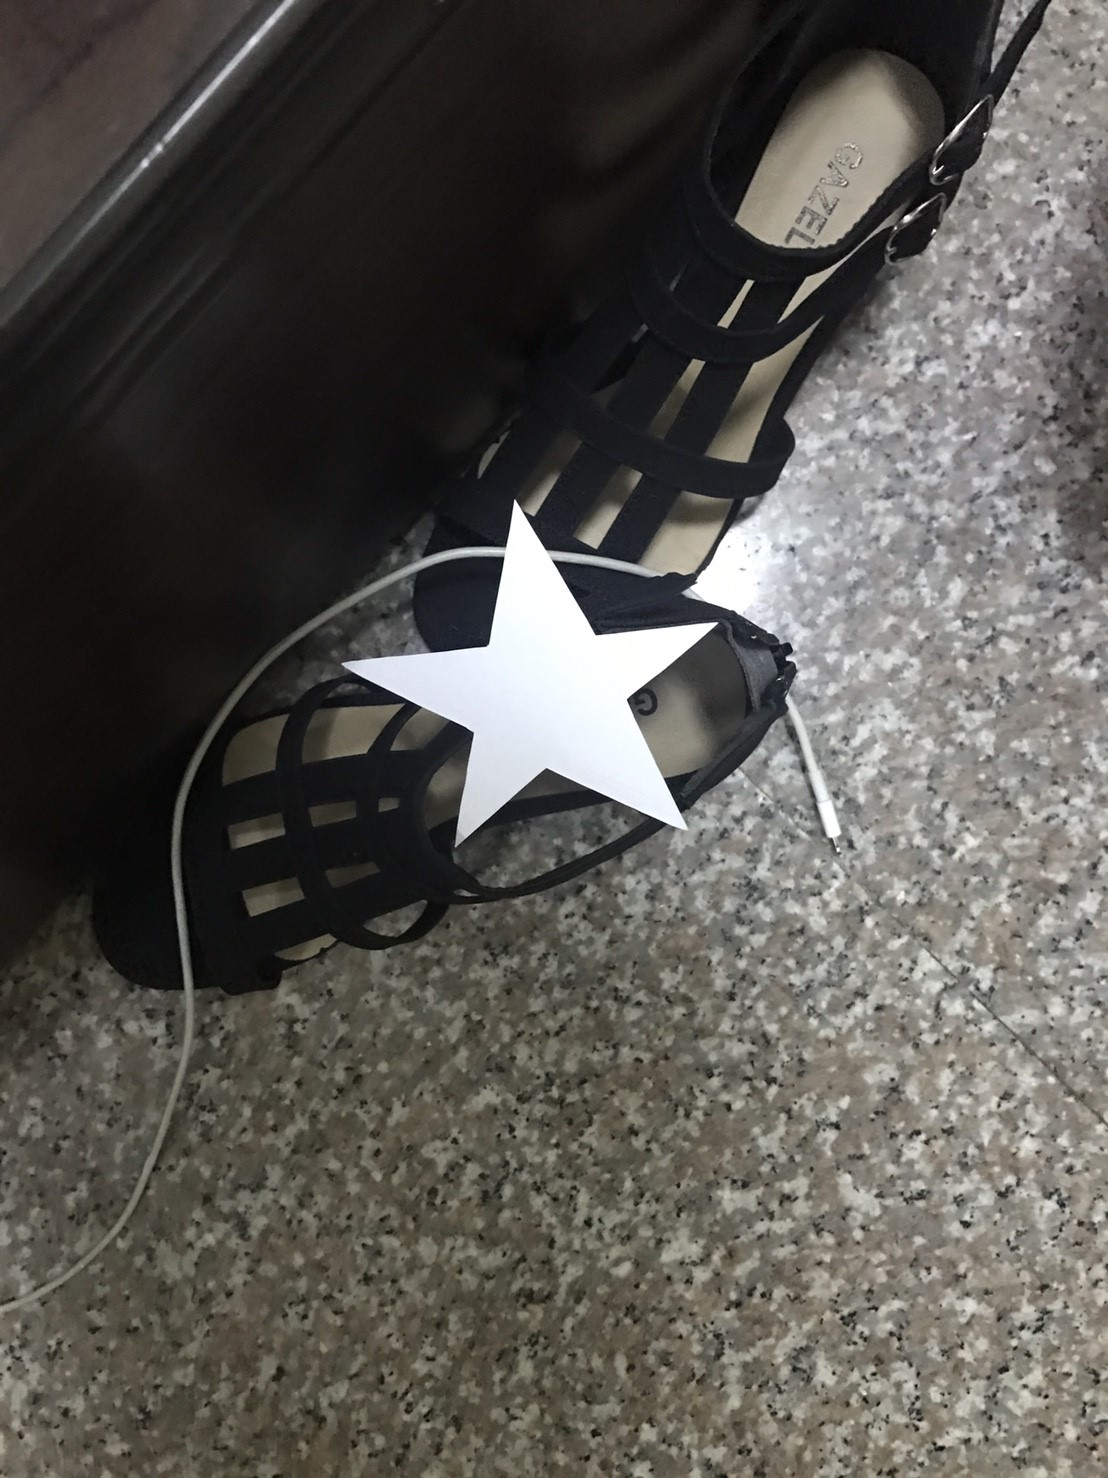star: (325, 506, 770, 912)
